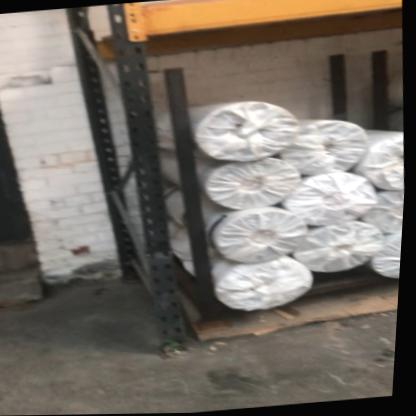vertical_damage: (140, 231, 185, 279)
